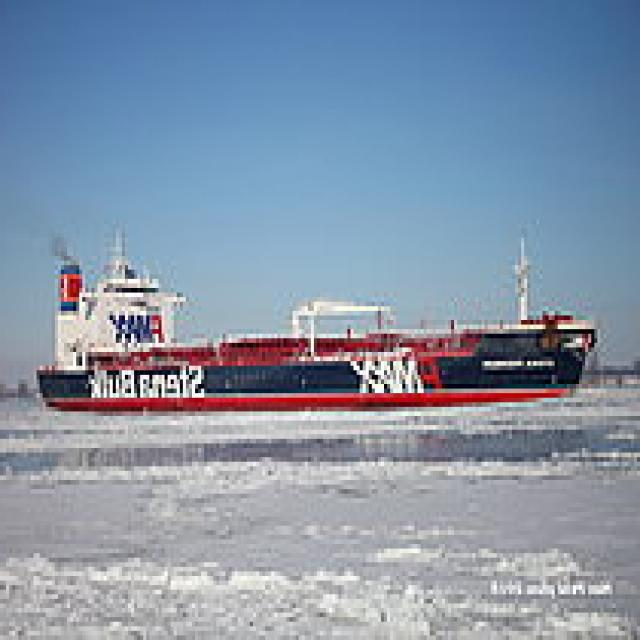Tanker: (39, 224, 604, 411)
